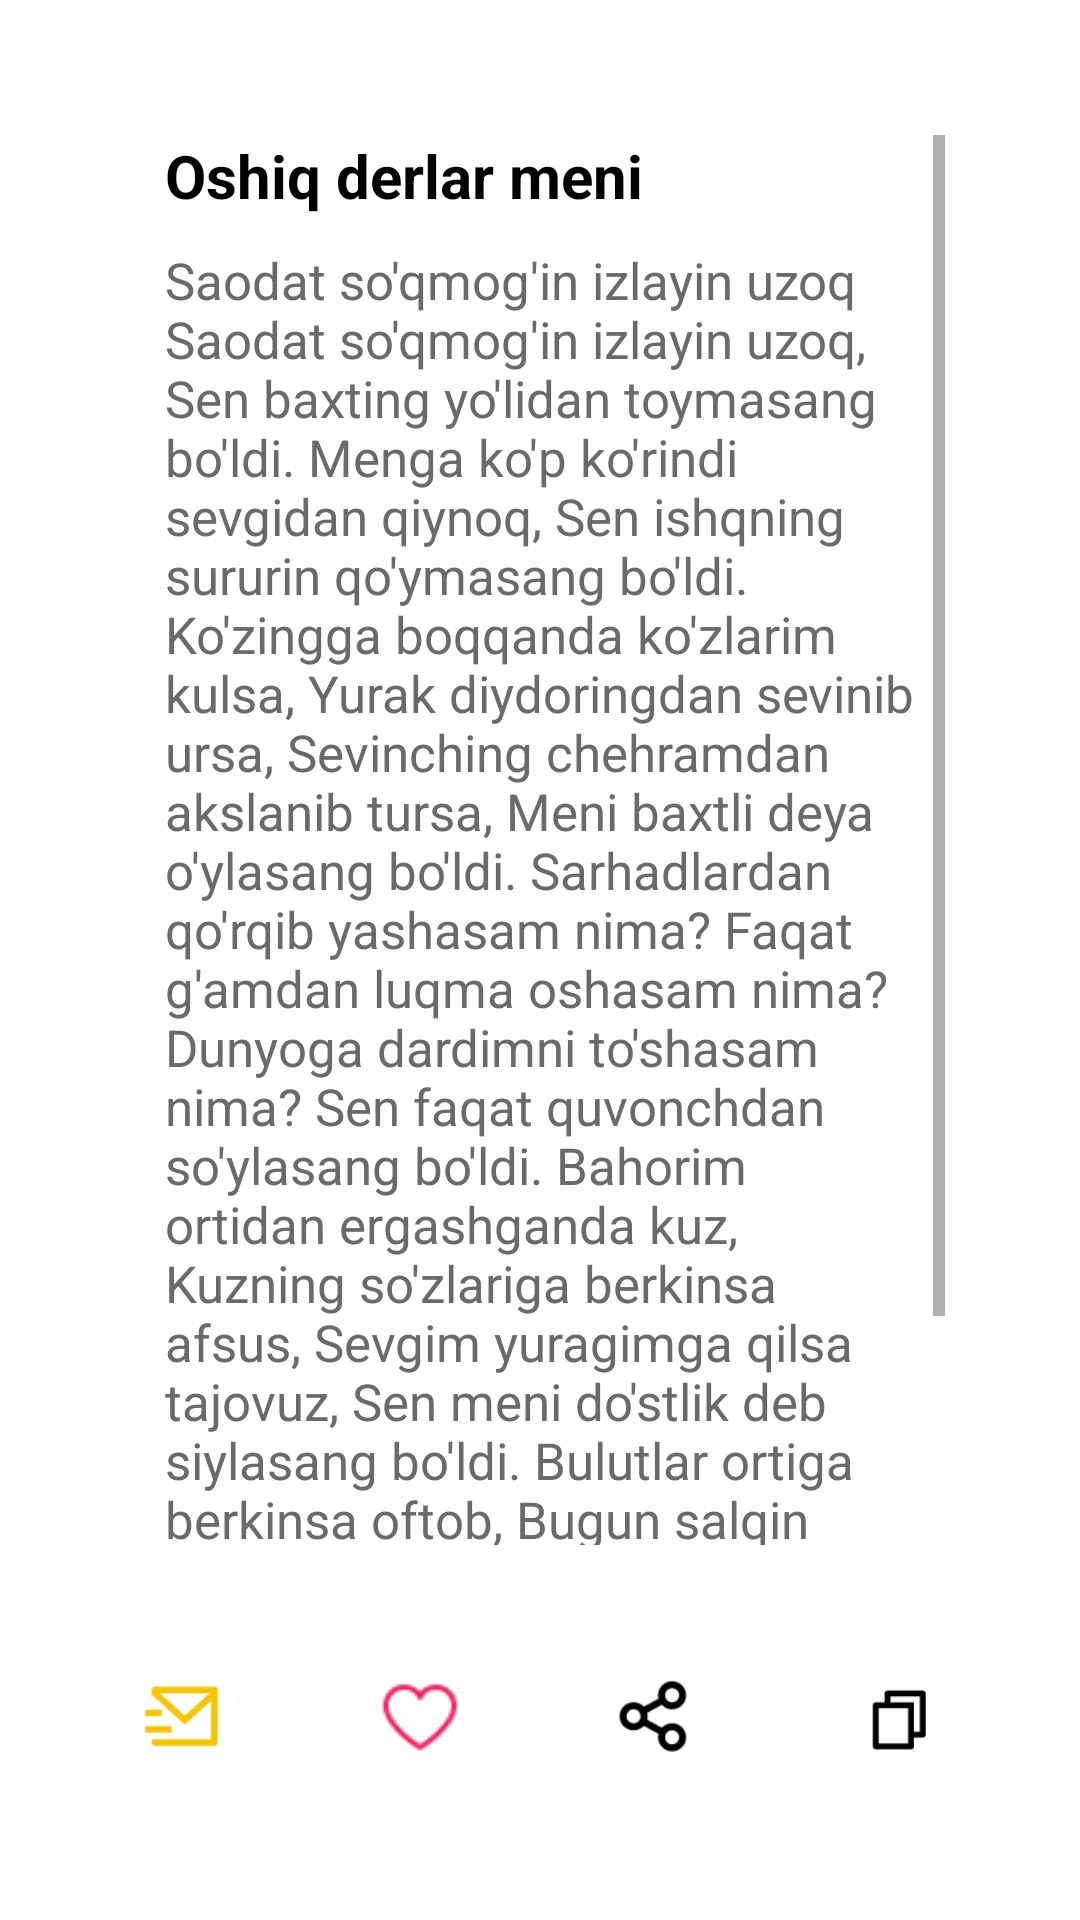

Icon bounding boxes for this 1080 × 1920 phone screenshot, format (x1, y1, x2, y2):
heart: (382, 1684, 458, 1751)
message: (144, 1685, 219, 1748)
share: (619, 1680, 687, 1752)
